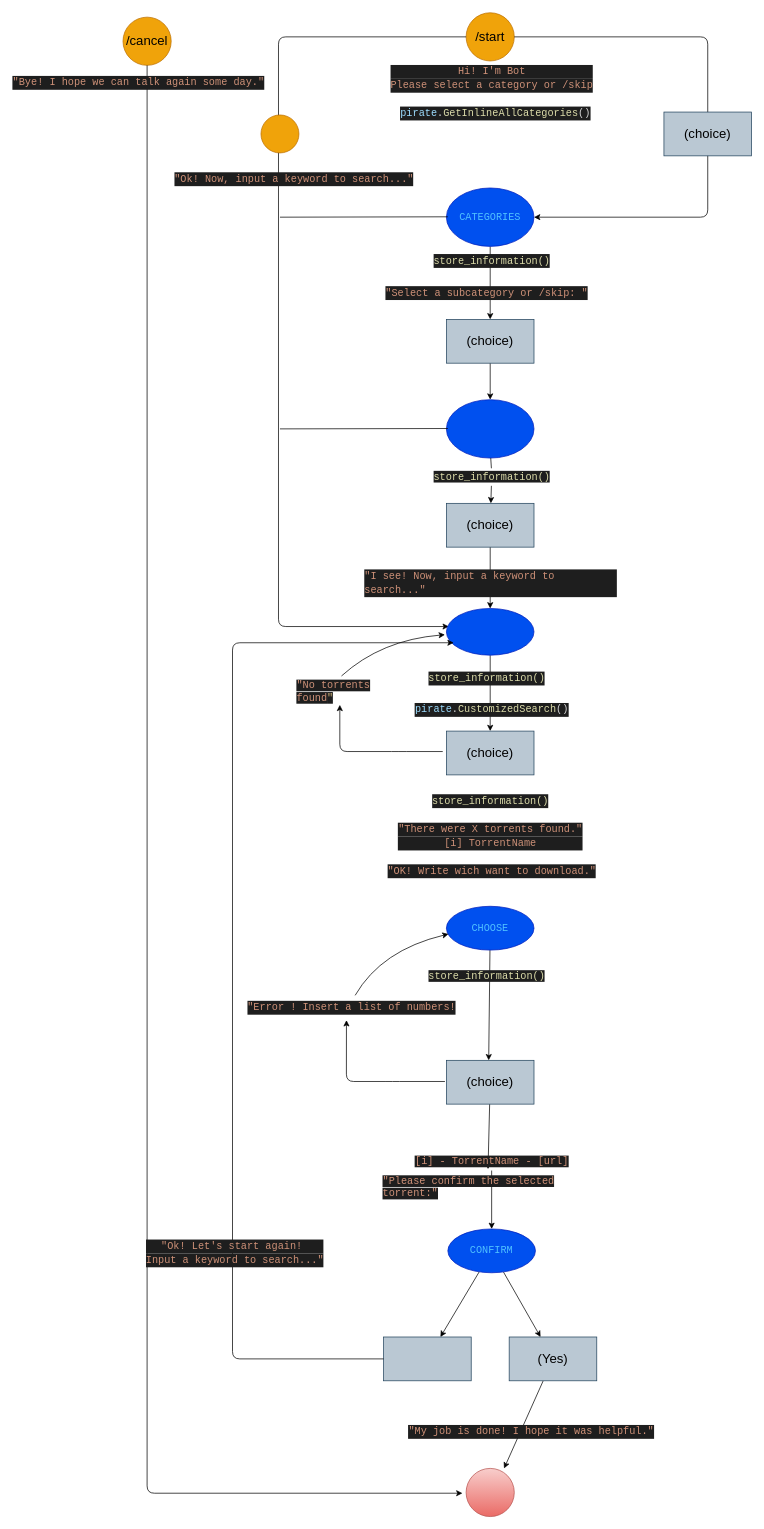
Some shapes in this 764 by 1529 pixel diagram are drawn without their labels. The shapes that lost their labels are listed below. From the top down, each one's centre as x and y in pixels, then its label:
[279,133]: /skip
[490,428]: SUBCATEGORIES
[490,631]: KEYWORD
[427,1358]: (No)
[489,1492]: END
